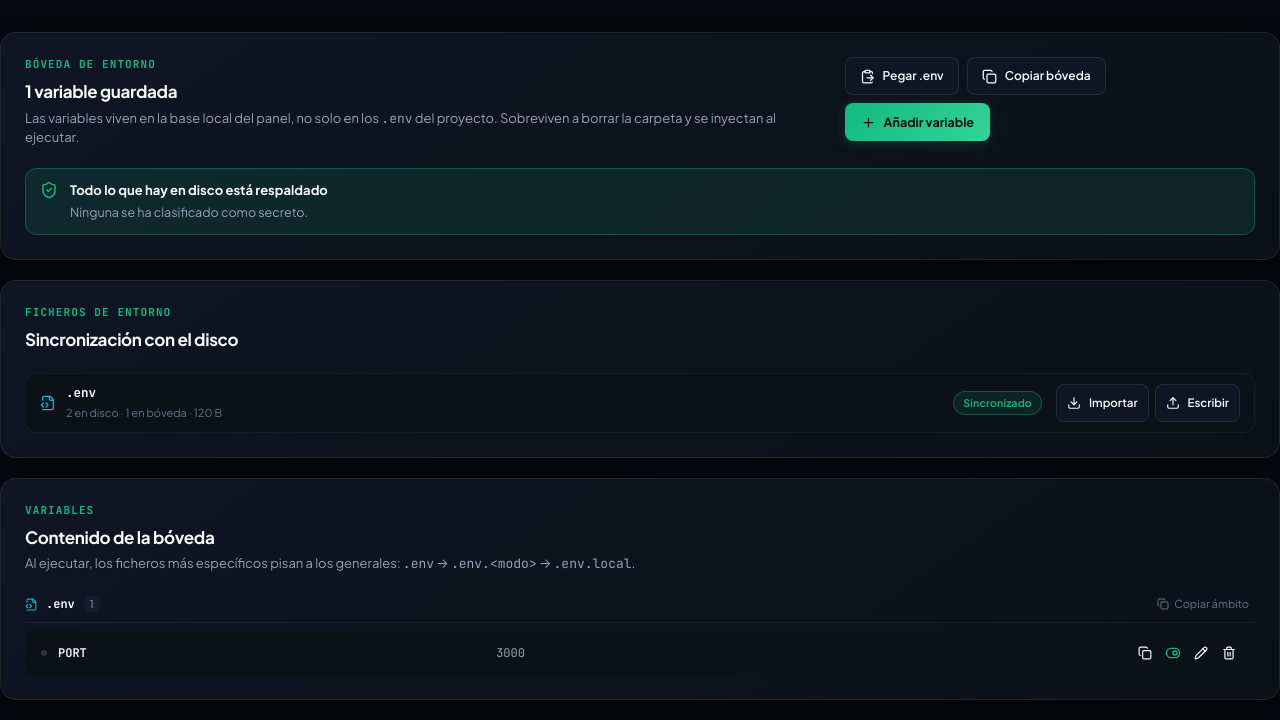
EnvironmentTab: escritura al disco › cancelar deja el fichero intacto
Click the button "Escribir" at (1197, 403), box [1155,384,1240,422]
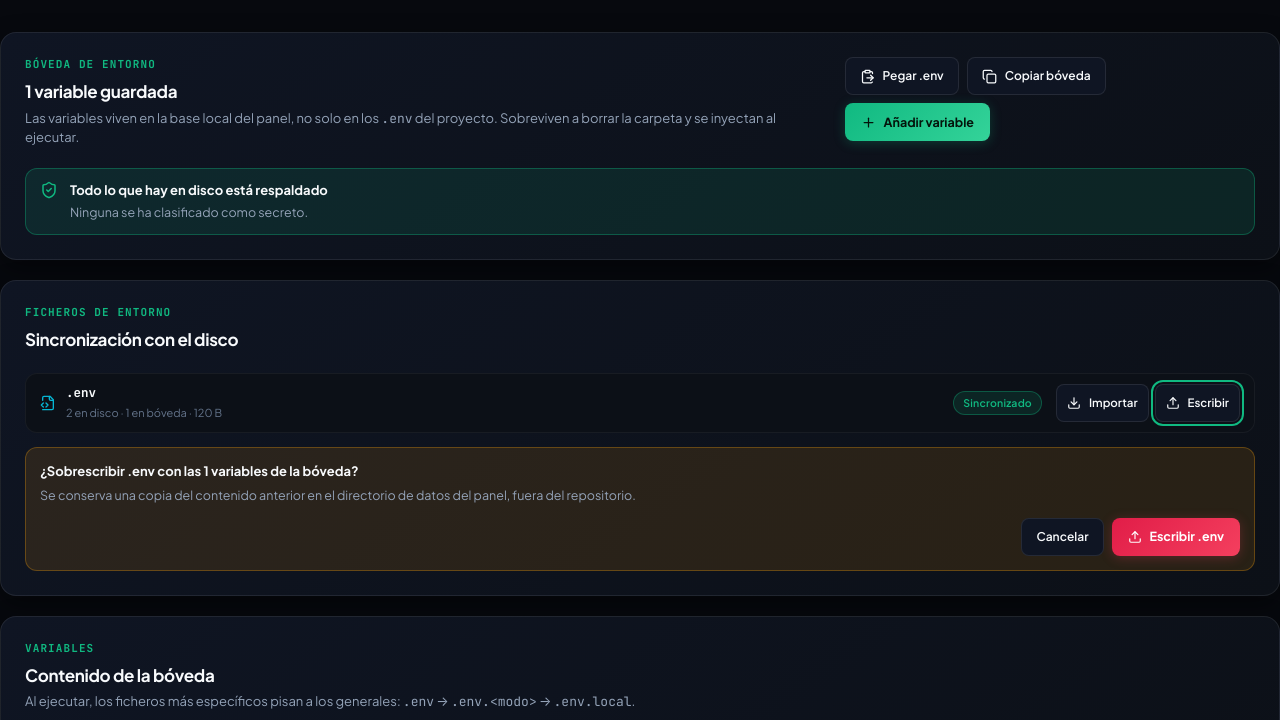
Click the button "Cancelar" at (1062, 537), box [1022,518,1104,556]
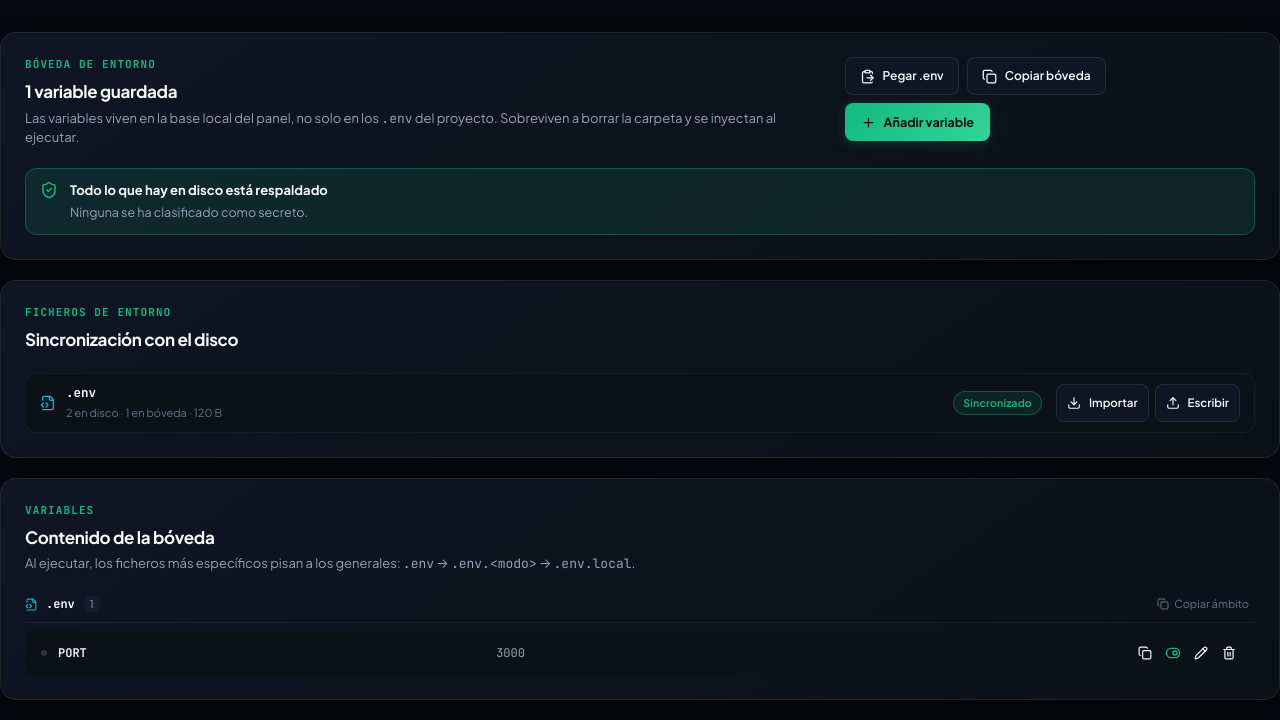
Check: the element with class "env-confirm" is gone
